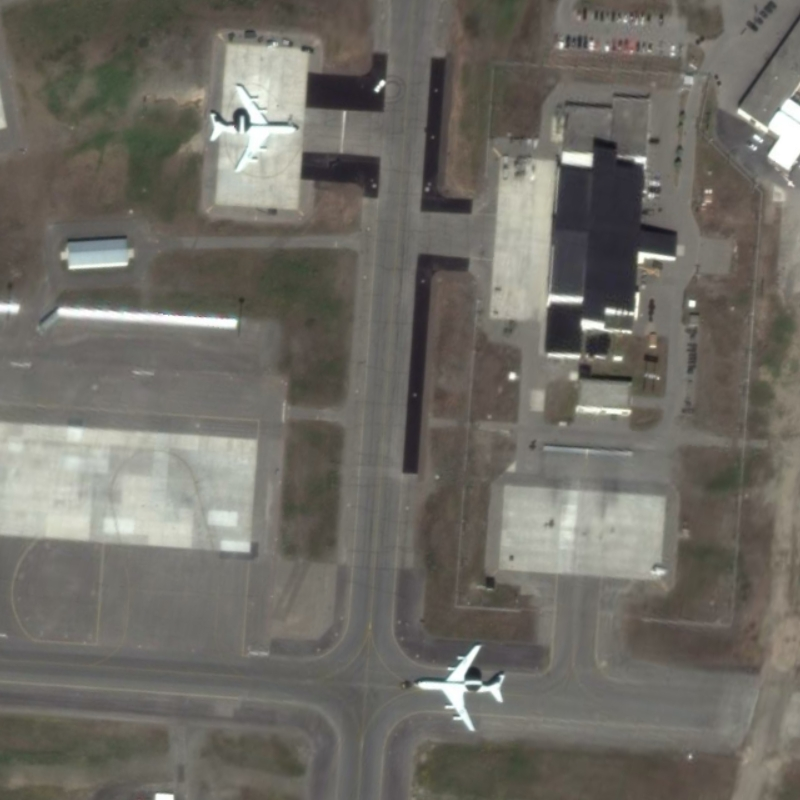A7: (401, 636, 513, 740), (207, 79, 302, 176)
